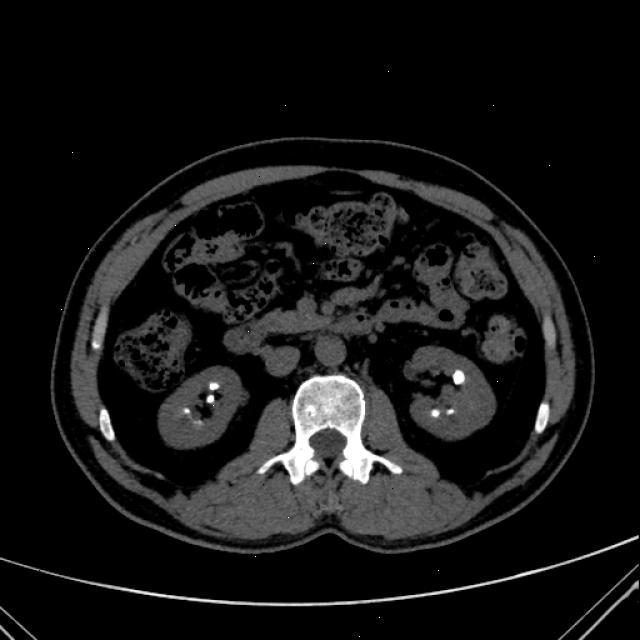kidneystone: (452, 370, 465, 384), (204, 394, 215, 403), (209, 382, 220, 391), (430, 408, 439, 417), (181, 408, 191, 415), (446, 408, 454, 415)
